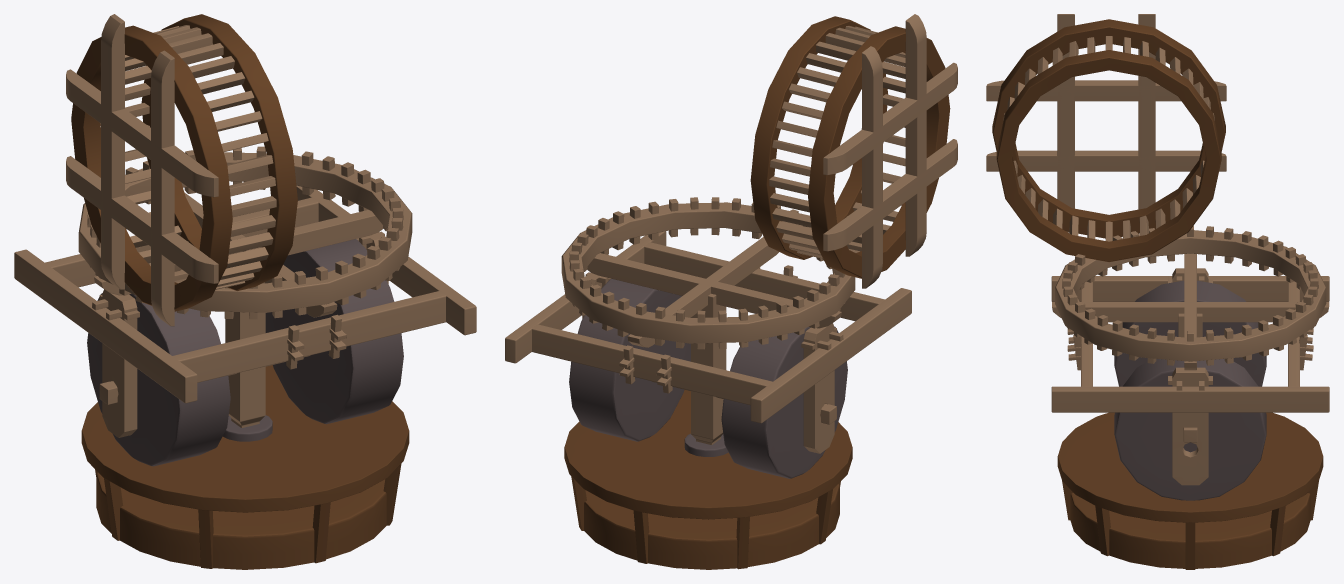
Rendered from Grinder_V1_NoAnimations.fbx.
The picture shows the model from 3 angles, left to right: view 1: azimuth 30°, elevation 25°; view 2: azimuth 150°, elevation 25°; view 3: azimuth 270°, elevation 25°; orthographic projection. The views are drawn at different scales.
Parts seen in each view (by area): view 1: Grinder_A, Base_LowPoly, Grinder_B, Plank_C3, Plank_C2, Plank_C1, Plank_C; view 2: Grinder_A, Base_LowPoly, Grinder_B, Plank_C2, Plank_C3, Plank_C, Plank_C1; view 3: Grinder_A, Base_LowPoly, Grinder_B, Plank_C, Plank_C1, Plank_C3, Plank_C2.
Boxes of the visible parts, x1=… form: Grinder_A: x1=14, y1=146, x2=476, y2=466; Base_LowPoly: x1=81, y1=365, x2=409, y2=569; Grinder_B: x1=71, y1=14, x2=297, y2=311; Plank_C3: x1=101, y1=14, x2=124, y2=289; Plank_C2: x1=151, y1=50, x2=174, y2=326; Plank_C1: x1=66, y1=69, x2=218, y2=197; Plank_C: x1=66, y1=156, x2=218, y2=283; Grinder_A: x1=505, y1=197, x2=911, y2=478; Base_LowPoly: x1=564, y1=389, x2=852, y2=569; Grinder_B: x1=750, y1=16, x2=950, y2=278; Plank_C2: x1=905, y1=14, x2=926, y2=256; Plank_C3: x1=862, y1=46, x2=882, y2=288; Plank_C: x1=823, y1=139, x2=957, y2=251; Plank_C1: x1=823, y1=62, x2=957, y2=175; Grinder_A: x1=1051, y1=226, x2=1329, y2=500; Base_LowPoly: x1=1057, y1=412, x2=1323, y2=569; Grinder_B: x1=992, y1=19, x2=1225, y2=262; Plank_C: x1=986, y1=150, x2=1226, y2=171; Plank_C1: x1=986, y1=80, x2=1226, y2=101; Plank_C3: x1=1138, y1=14, x2=1155, y2=209; Plank_C2: x1=1057, y1=14, x2=1074, y2=232.
Bounding box in the file's own units: 2.44 × 4.05 × 2.84.
